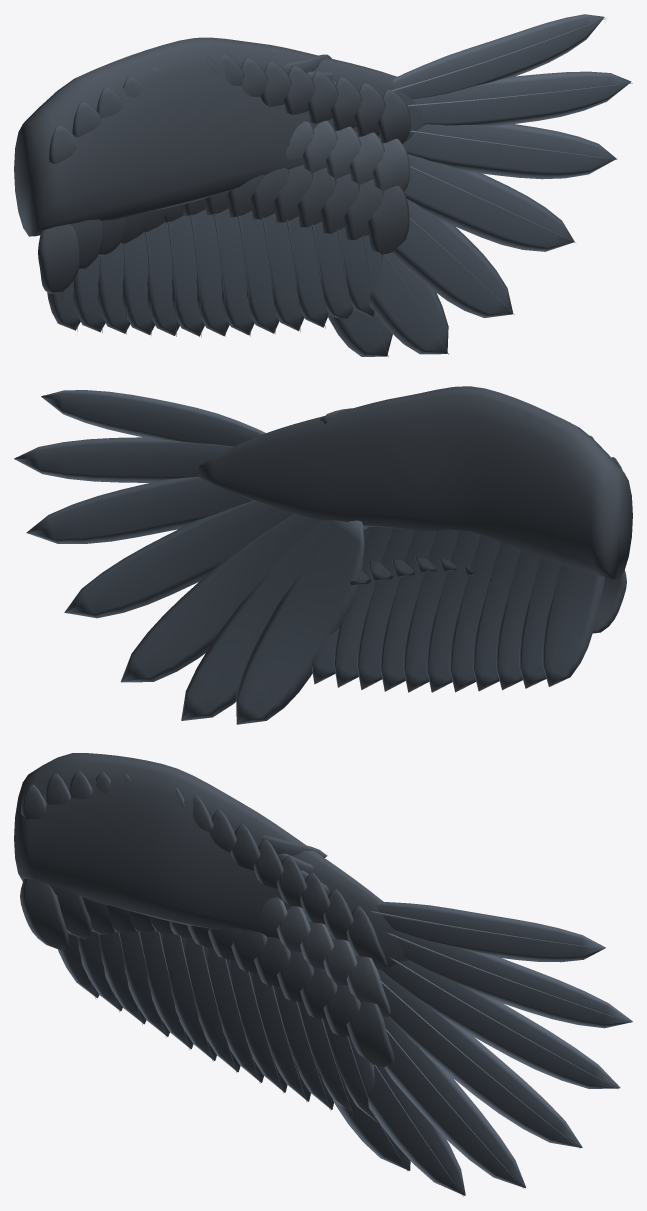
The model's file is right-wing.glb.
3 views of the same model, one above another, from view 1: azimuth 30°, elevation 25°; view 2: azimuth 150°, elevation 25°; view 3: azimuth 330°, elevation 25° (orthographic). The views are drawn at different scales.
Parts seen in each view (by area): view 1: right-wing-1, right-wing-0, right-wing-2, right-wing-6; view 2: right-wing-1, right-wing-0; view 3: right-wing-1, right-wing-0, right-wing-2, right-wing-6.
Boxes of the visible parts, x1,y1,x2,y2 form: right-wing-1: (47,14,631,356); right-wing-0: (14,37,425,293); right-wing-2: (52,120,409,227); right-wing-6: (77,18,632,357); right-wing-1: (14,390,604,724); right-wing-0: (198,386,632,633); right-wing-1: (58,902,632,1195); right-wing-0: (14,753,408,1066); right-wing-2: (33,879,390,1017); right-wing-6: (79,911,630,1196).
Bounding box in the file's own units: 2.52 × 1.57 × 0.2765.
